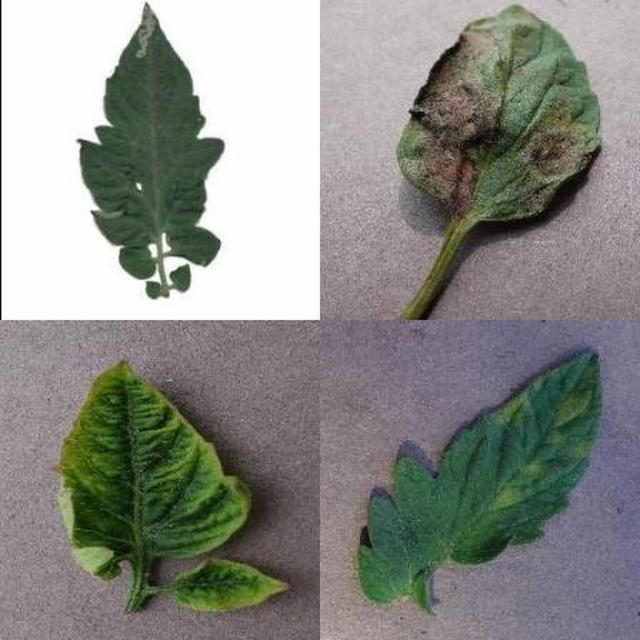Leaf Miner: (173, 74, 640, 640)
